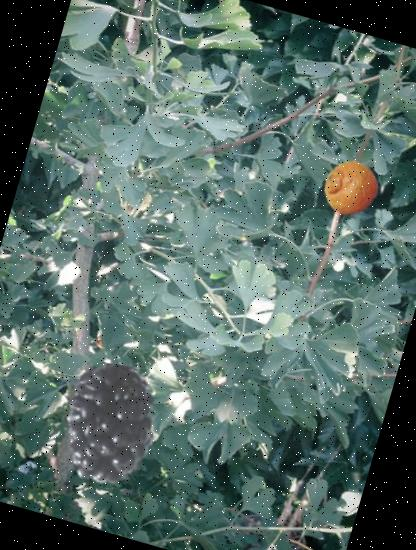Mandarine: (317, 153, 386, 222)
Mulberry: (33, 349, 186, 502)
